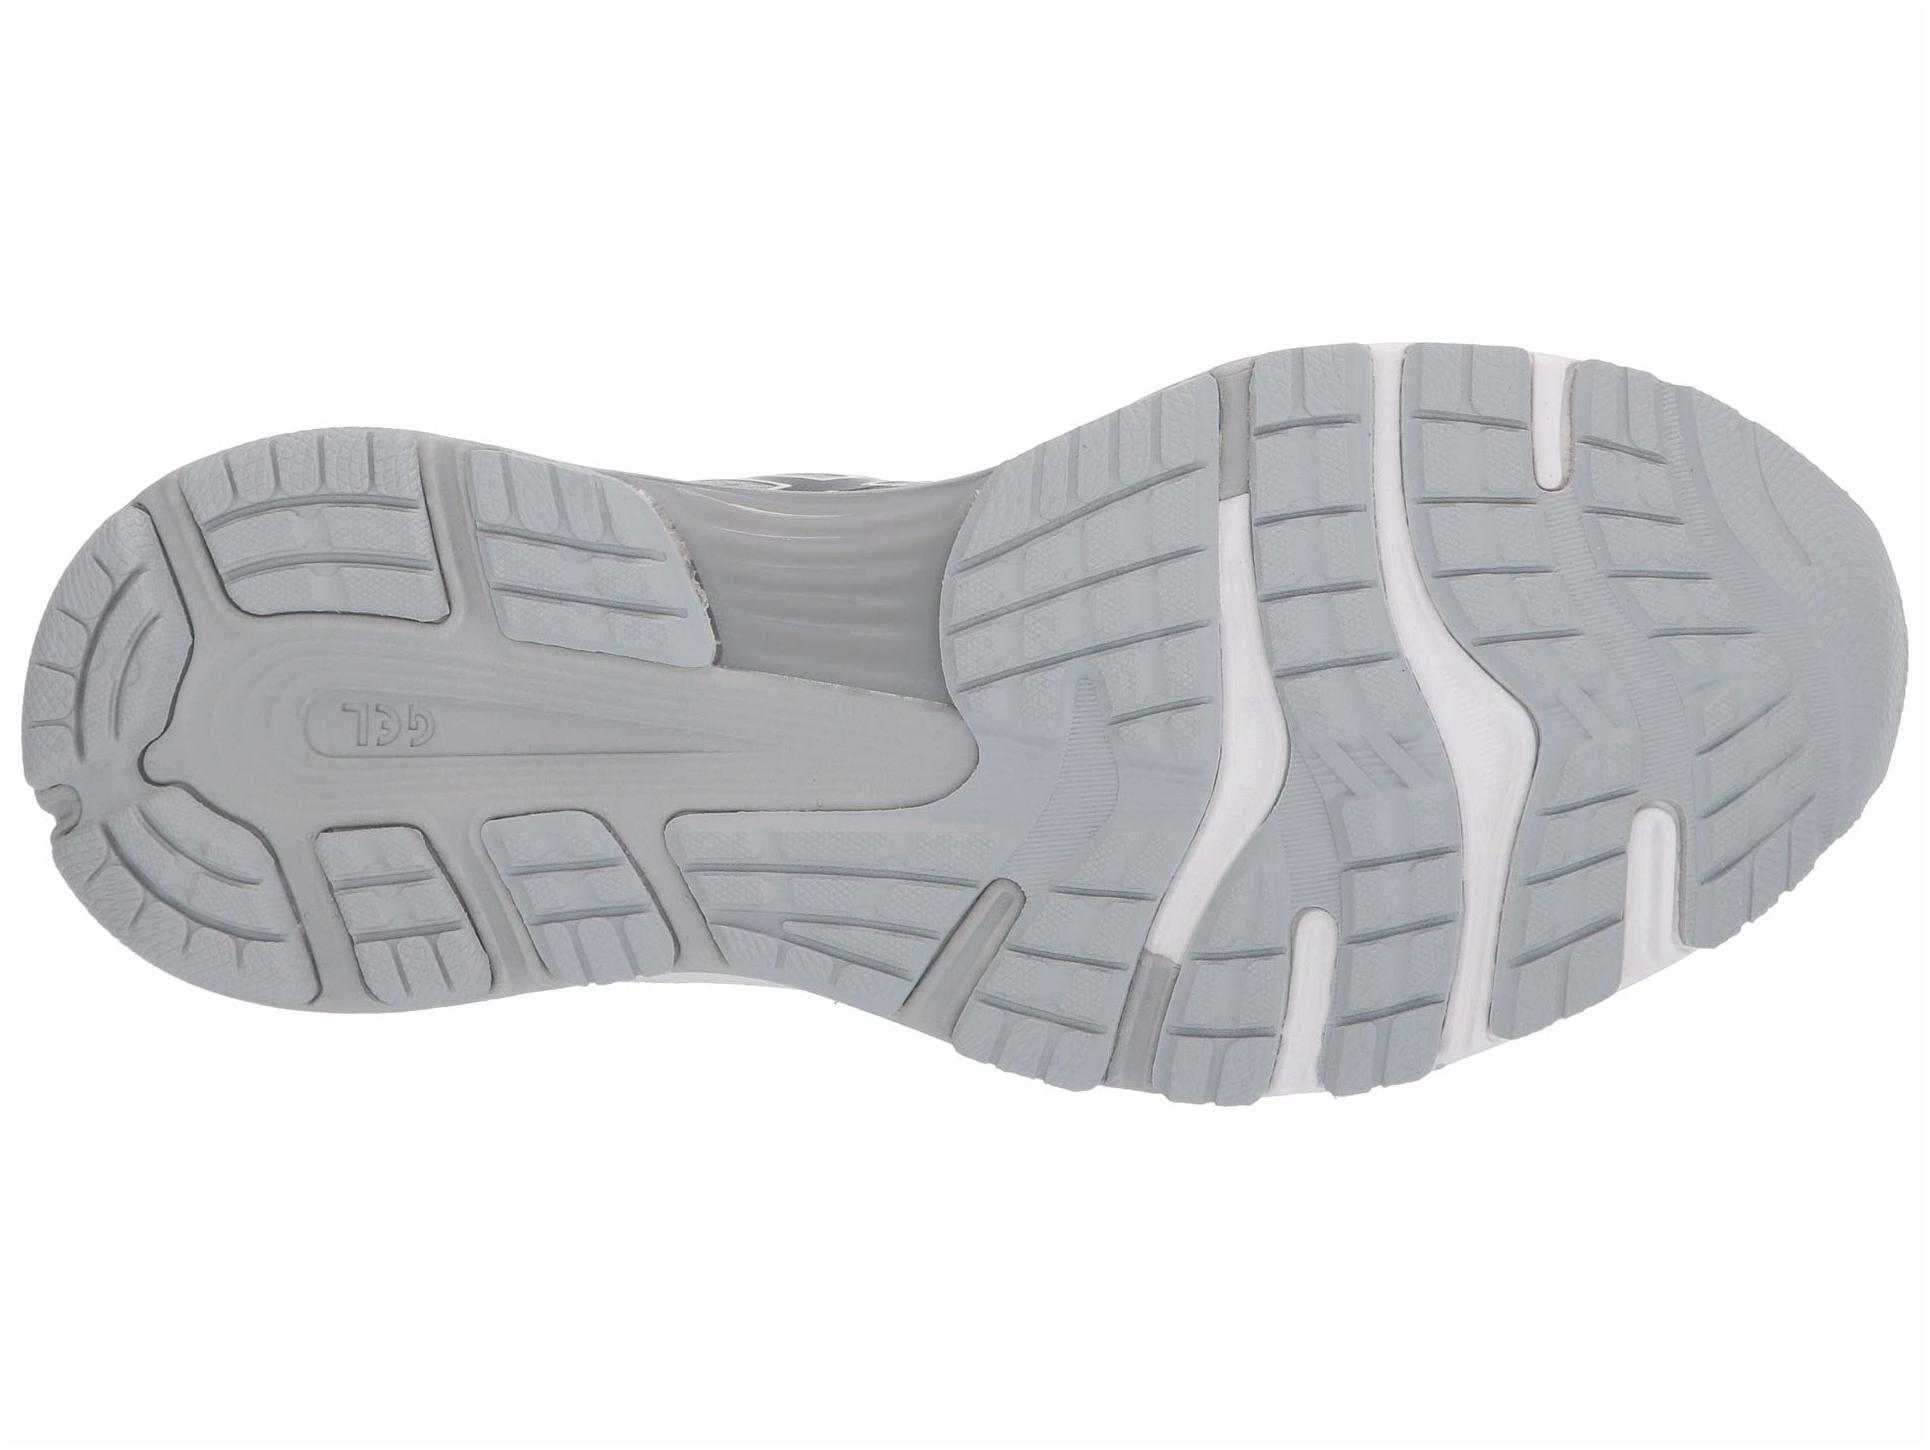line: (1542, 519, 1663, 649)
quad: (449, 433, 730, 701), (471, 790, 702, 999)
text: (326, 688, 445, 768)
triangle: (765, 889, 947, 1068)
